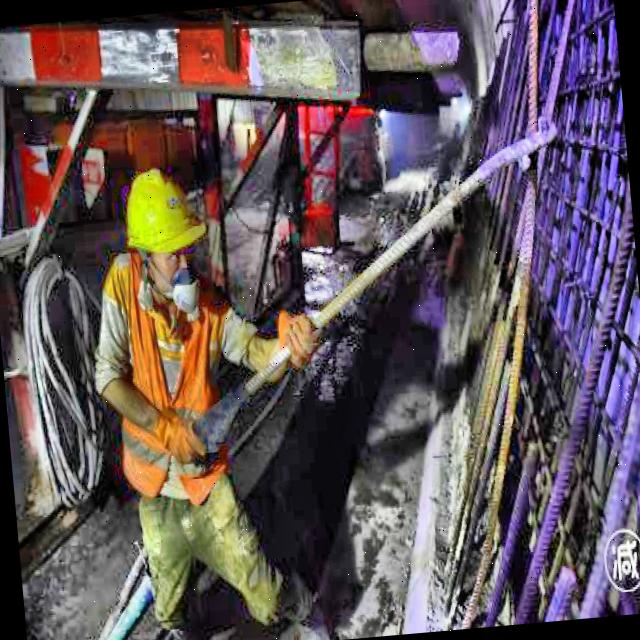helmet: (120, 160, 202, 306)
